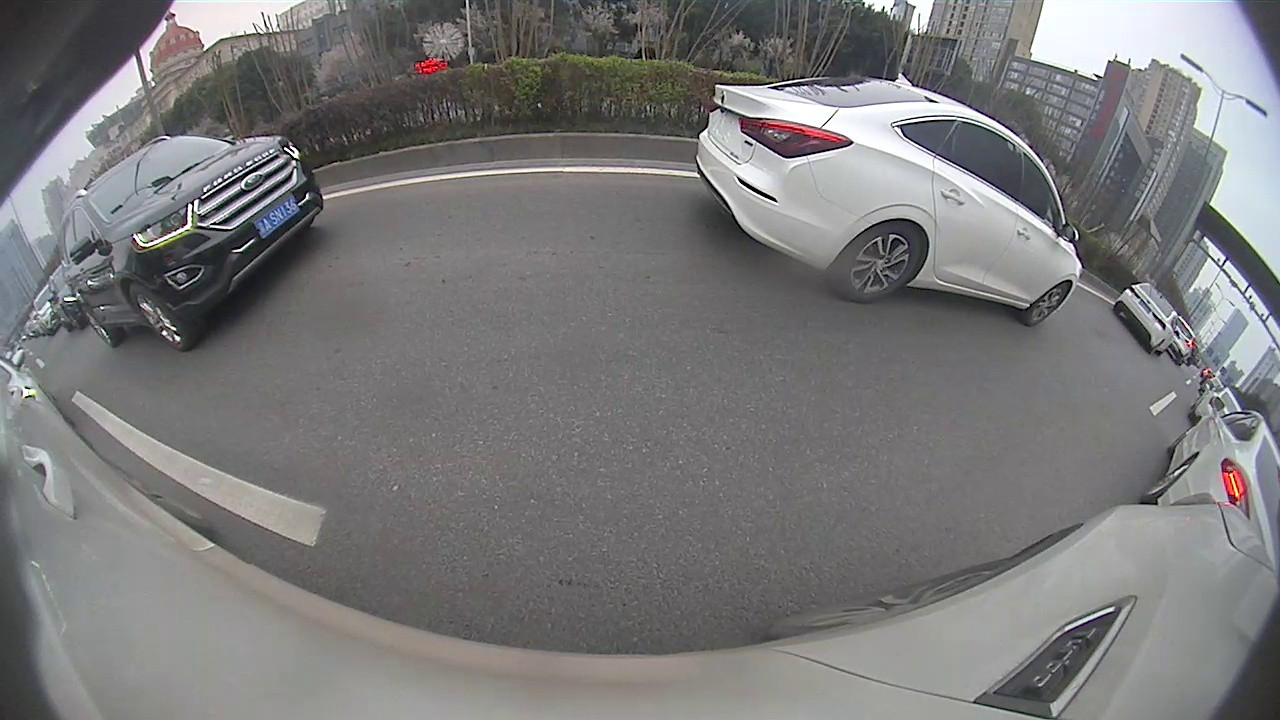car: (694, 70, 1079, 328), (58, 134, 324, 349), (1141, 393, 1279, 582), (1112, 278, 1181, 358)
front: (120, 284, 193, 345), (1025, 283, 1071, 325)
rear: (834, 219, 925, 303)
